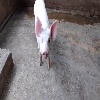heo: (32, 1, 58, 72)
